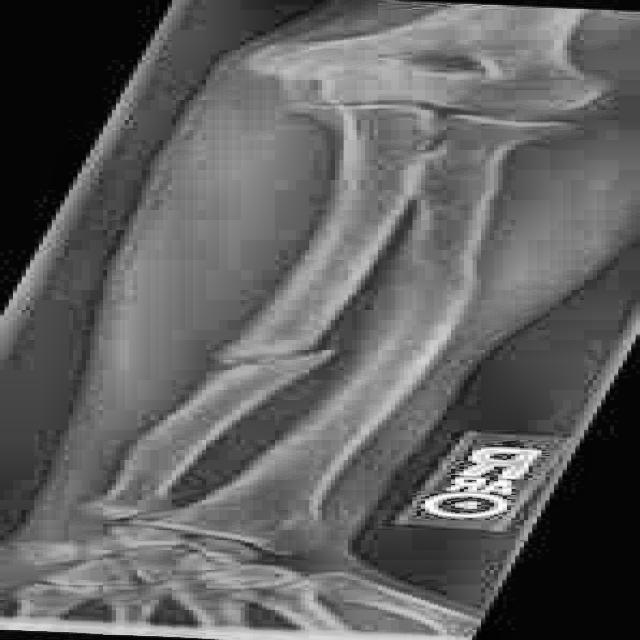forearm fracture: (142, 317, 413, 410)
